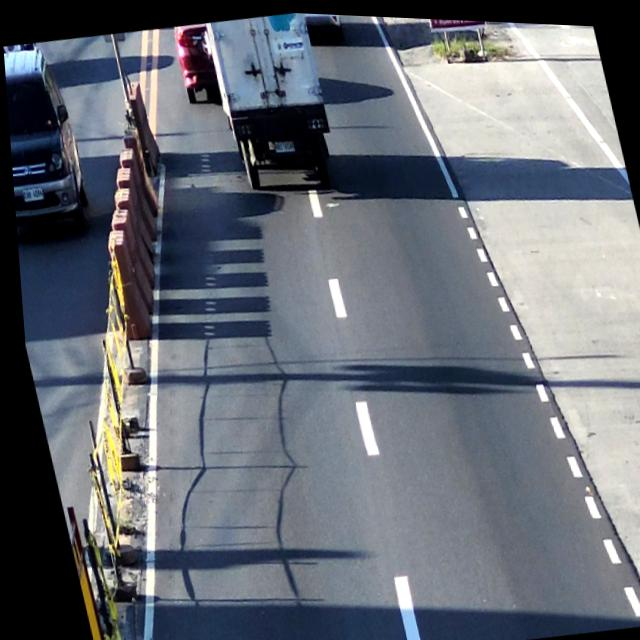Car: (170, 20, 221, 101), (304, 11, 350, 41)
Truck: (202, 7, 339, 193)
